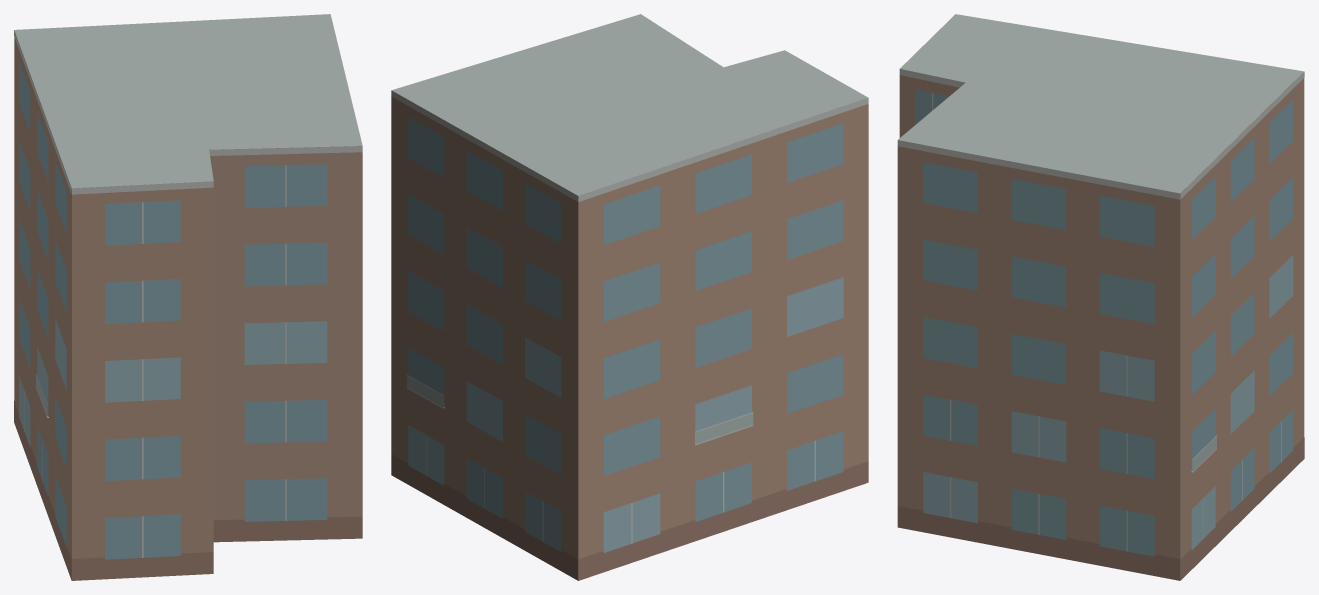
Rendered from survey-upis-32639038.glb.
3 renders of one model, left to right at view 1: azimuth 30°, elevation 25°; view 2: azimuth 150°, elevation 25°; view 3: azimuth 270°, elevation 25°, orthographic.
Parts seen in each view (by area): view 1: survey-upis-32639038.tmp; view 2: survey-upis-32639038.tmp; view 3: survey-upis-32639038.tmp.
Part boxes in pixels (x1=…): survey-upis-32639038.tmp: x1=14, y1=14, x2=362, y2=580; survey-upis-32639038.tmp: x1=391, y1=14, x2=868, y2=580; survey-upis-32639038.tmp: x1=897, y1=14, x2=1304, y2=580.
Bounding box in the file's own units: 15.16 × 15.25 × 14.52.
